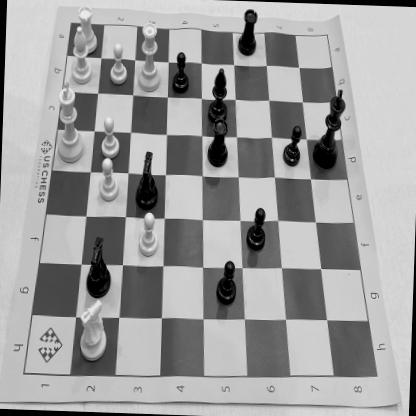black-bishop: (204, 61, 233, 128)
black-king: (311, 84, 351, 172)
black-knight: (132, 143, 166, 214), (82, 232, 114, 300)
black-pawn: (213, 257, 240, 307), (280, 121, 304, 170), (246, 206, 270, 254), (170, 47, 193, 95)
black-rook: (204, 116, 233, 172), (235, 3, 262, 61)
white-bishop: (68, 24, 97, 87)
white-king: (53, 78, 89, 166)
white-knight: (76, 294, 114, 366)
white-pawn: (136, 210, 164, 260), (95, 155, 123, 203), (106, 39, 131, 87), (98, 113, 122, 160)
white-queen: (134, 17, 166, 96)
white-rook: (74, 3, 102, 58)
